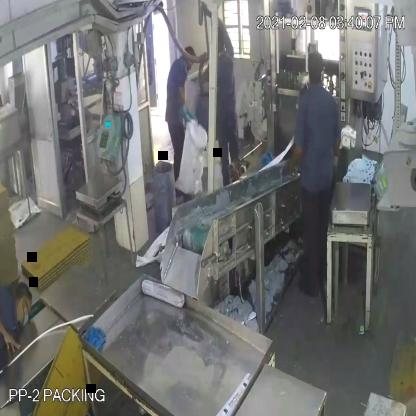glove: (174, 91, 200, 137)
no_glove: (0, 314, 28, 362), (284, 140, 304, 176)
